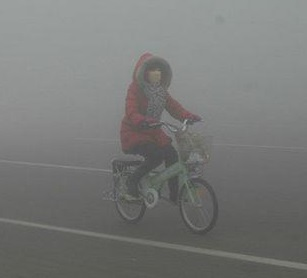person: (118, 50, 184, 202)
